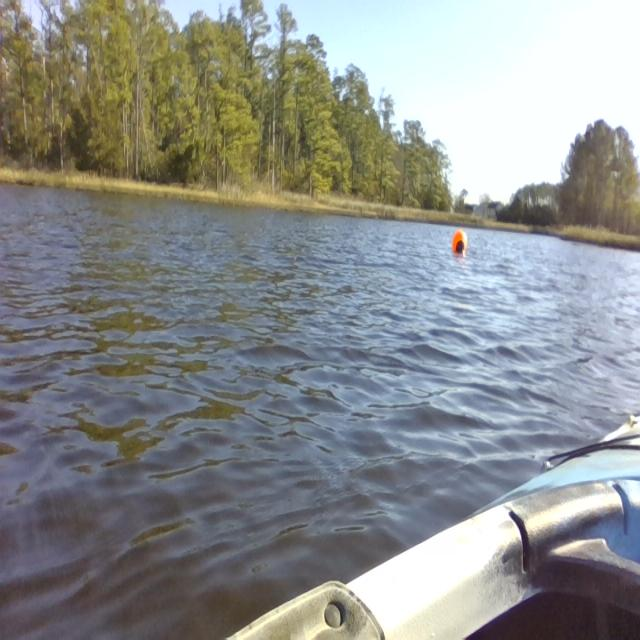Buoy: (450, 226, 470, 262)
